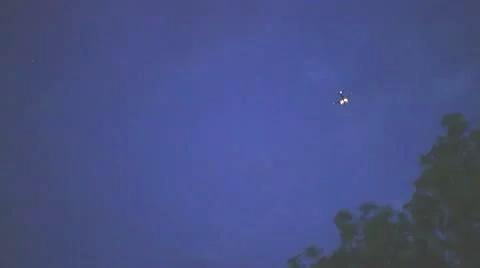Plane: (324, 85, 360, 112)
